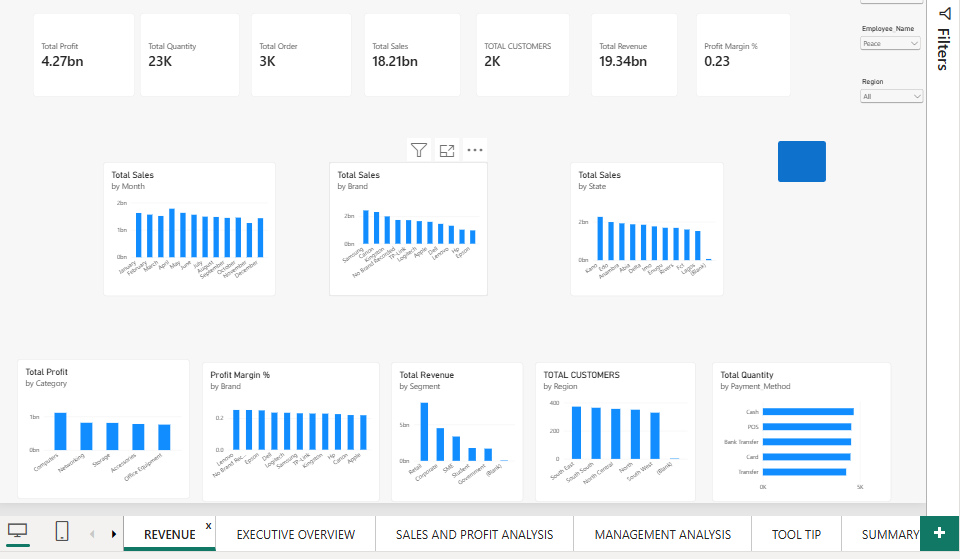

Layout of this report page (visuals, bound fields, positions):
{"tool":"powerbi","page":{"name":"REVENUE","canvas":[1920,1080],"ordinal":0},"visuals":[{"type":"cardVisual","fields":{"Data":["Fact_Sales.Total Profit"]},"box":[76.4,70.2,210.6,173.4],"z":0},{"type":"cardVisual","fields":{"Data":["Fact_Sales.Total Quantity"]},"box":[297.3,70.2,206.5,173.4],"z":1000},{"type":"cardVisual","fields":{"Data":["Fact_Sales.Total Order"]},"box":[526.5,70.2,208.5,173.4],"z":2000},{"type":"cardVisual","fields":{"Data":["Fact_Sales.Total Sales"]},"box":[759.7,70.2,200.3,173.4],"z":3000},{"type":"cardVisual","fields":{"Data":["Fact_Sales.TOTAL CUSTOMERS"]},"box":[991,70.2,194.1,173.4],"z":4000},{"type":"clusteredColumnChart","fields":{"Category":["Fact_Sales.Order_Date.Variation.Date Hierarchy.Month"],"Y":["Fact_Sales.Total Sales"]},"box":[220.9,377.8,357.2,276.6],"z":5000},{"type":"clusteredColumnChart","fields":{"Category":["Dim_Products.Brand"],"Y":["Fact_Sales.Total Sales"]},"box":[687.5,377.8,328.3,276.6],"z":6000},{"type":"clusteredColumnChart","fields":{"Category":["Dim_Products.Category"],"Y":["Fact_Sales.Total Profit"]},"box":[43.4,784.5,357.2,289],"z":7000},{"type":"clusteredColumnChart","fields":{"Category":["Dim_Products.Brand"],"Y":["Fact_Sales.Profit Margin %"]},"box":[425.3,790.7,367.5,289],"z":8000},{"type":"slicer","fields":{"Values":["Dim_Products.Brand"]},"box":[1779.6,0,140.4,216.8],"z":9000},{"type":"cardVisual","fields":{"Data":["Fact_Sales.Total Revenue"]},"box":[1228.4,70.2,179.6,173.4],"z":10000},{"type":"clusteredColumnChart","fields":{"Category":["Dim_Customers.Region"],"Y":["Fact_Sales.TOTAL CUSTOMERS"]},"box":[1112.8,790.7,332.4,289],"z":11000},{"type":"clusteredBarChart","fields":{"Category":["Fact_Sales.Payment_Method"],"Y":["Fact_Sales.Total Quantity"]},"box":[1478.2,790.7,369.5,289],"z":12000},{"type":"clusteredColumnChart","fields":{"Category":["Dim_Customers.Segment"],"Y":["Fact_Sales.Total Revenue"]},"box":[815.5,790.7,272.5,289],"z":13000},{"type":"slicer","fields":{"Values":["Dim_Employees.Employee_Name"]},"box":[1779.6,95,134.2,218.8],"z":14000},{"type":"slicer","fields":{"Values":["Dim_Customers.Region"]},"box":[1779.6,204.4,140.4,173.4],"z":15000},{"type":"actionButton","box":[1614.5,334.5,99.1,84.6],"z":15001},{"type":"clusteredColumnChart","fields":{"Category":["Dim_Customers.State"],"Y":["Fact_Sales.Total Sales"]},"box":[1185,377.8,317.9,276.6],"z":15002},{"type":"cardVisual","fields":{"Data":["Fact_Sales.Profit Margin %"]},"box":[1445.2,70.2,196.1,173.4],"z":15003}]}

Visuals, with their boxes on the page's 1920x1080 design canvas (x1, y1, x2, y2). These are canvas units, not pixel positions in the 960x559 screenshot, which may show the page scaled, cropped or inside an application window:
cardVisual - Fact_Sales.Total Profit: 76,70,287,244
cardVisual - Fact_Sales.Total Quantity: 297,70,504,244
cardVisual - Fact_Sales.Total Order: 526,70,735,244
cardVisual - Fact_Sales.Total Sales: 760,70,960,244
cardVisual - Fact_Sales.TOTAL CUSTOMERS: 991,70,1185,244
clusteredColumnChart - Fact_Sales.Order_Date.Variation.Date Hierarchy.Month x Fact_Sales.Total Sales: 221,378,578,654
clusteredColumnChart - Dim_Products.Brand x Fact_Sales.Total Sales: 688,378,1016,654
clusteredColumnChart - Dim_Products.Category x Fact_Sales.Total Profit: 43,784,401,1074
clusteredColumnChart - Dim_Products.Brand x Fact_Sales.Profit Margin %: 425,791,793,1080
slicer - Dim_Products.Brand: 1780,0,1920,217
cardVisual - Fact_Sales.Total Revenue: 1228,70,1408,244
clusteredColumnChart - Dim_Customers.Region x Fact_Sales.TOTAL CUSTOMERS: 1113,791,1445,1080
clusteredBarChart - Fact_Sales.Payment_Method x Fact_Sales.Total Quantity: 1478,791,1848,1080
clusteredColumnChart - Dim_Customers.Segment x Fact_Sales.Total Revenue: 816,791,1088,1080
slicer - Dim_Employees.Employee_Name: 1780,95,1914,314
slicer - Dim_Customers.Region: 1780,204,1920,378
actionButton: 1614,334,1714,419
clusteredColumnChart - Dim_Customers.State x Fact_Sales.Total Sales: 1185,378,1503,654
cardVisual - Fact_Sales.Profit Margin %: 1445,70,1641,244
